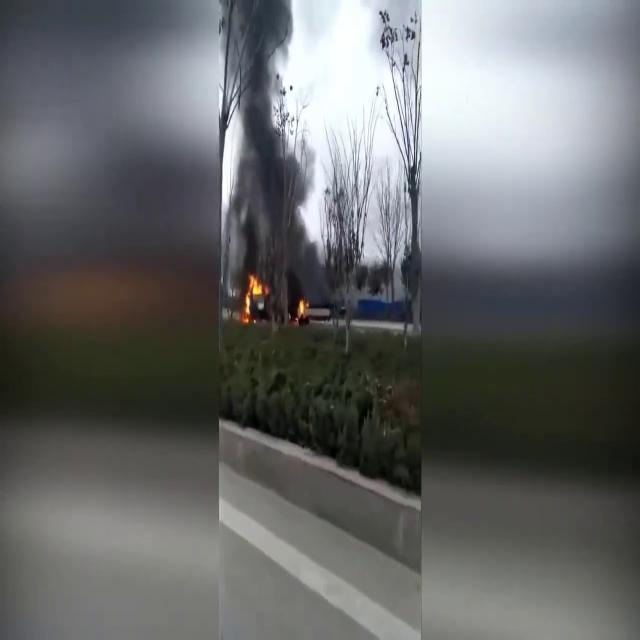Fire: (242, 270, 268, 324), (294, 292, 310, 324)
Smoke: (222, 0, 318, 300)
